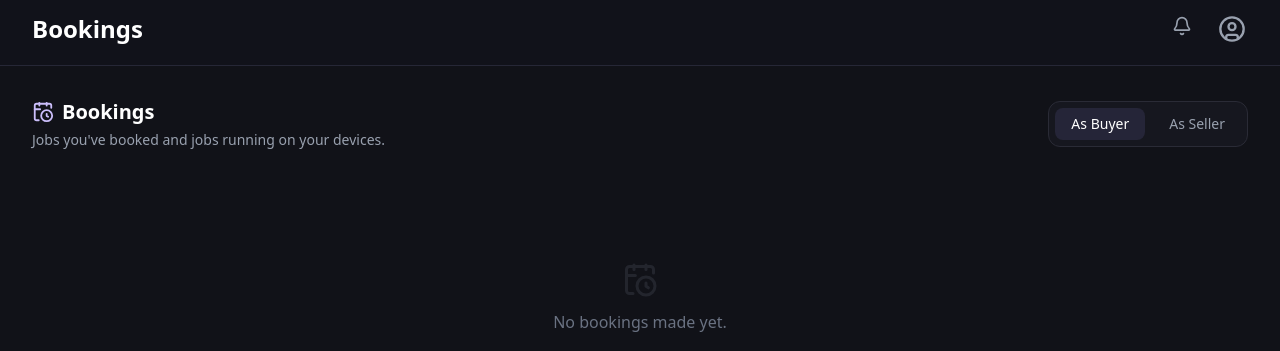
it: BookingsPage › switches between buyer and seller views
Expected: the text "No bookings made yet." is shown, [553,310,727,334]
Click the button "As Seller".
click(1197, 124)  # box [1153,108,1241,140]
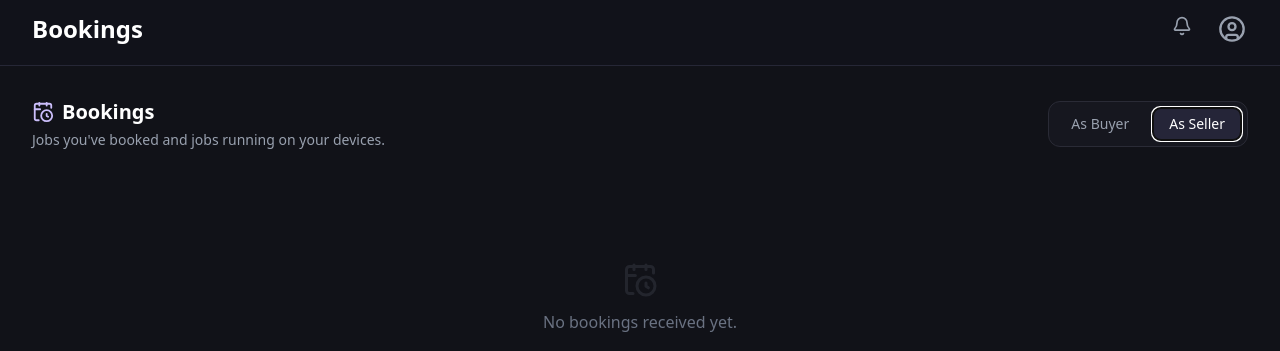
Now the text "No bookings received yet." is shown, box [543,310,737,334]
